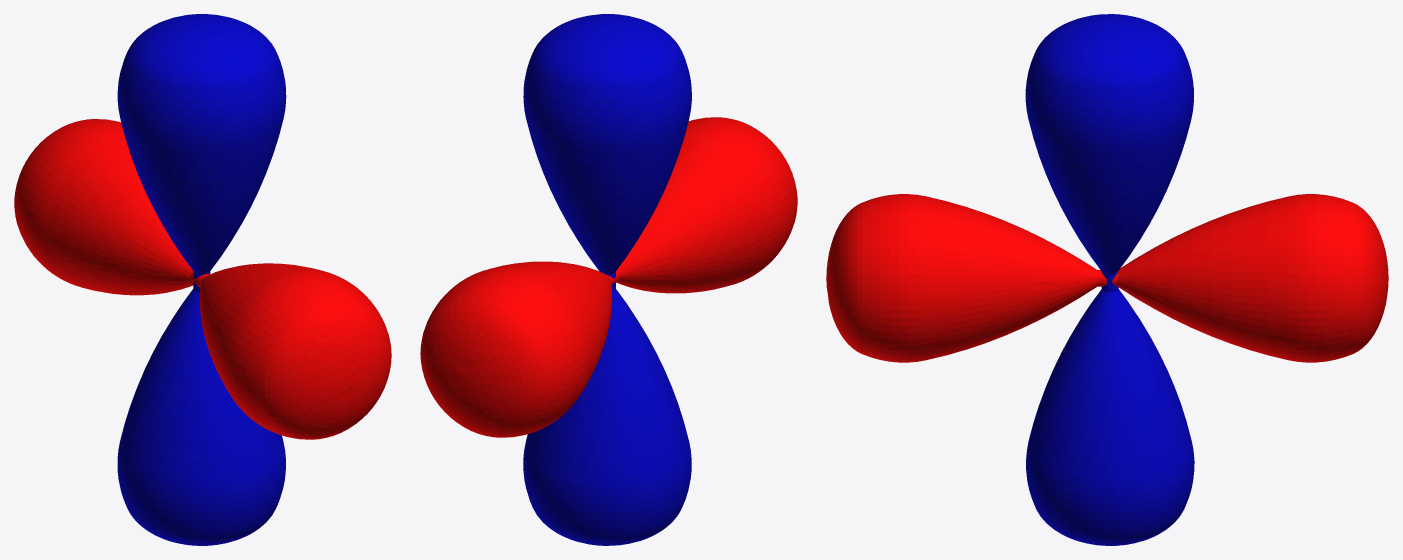
The model's file is Carbono_pxpy.glb.
3 views of the same model, side by side, from view 1: azimuth 30°, elevation 25°; view 2: azimuth 150°, elevation 25°; view 3: azimuth 270°, elevation 25° (orthographic).
Parts seen in each view (by area): view 1: root; view 2: root; view 3: root.
Boxes of the visible parts, x1,y1,x2,y2 form: root: (14,14,391,545); root: (420,14,797,545); root: (826,14,1388,545).
Bounding box in the file's own units: 0.2998 × 1 × 1.
